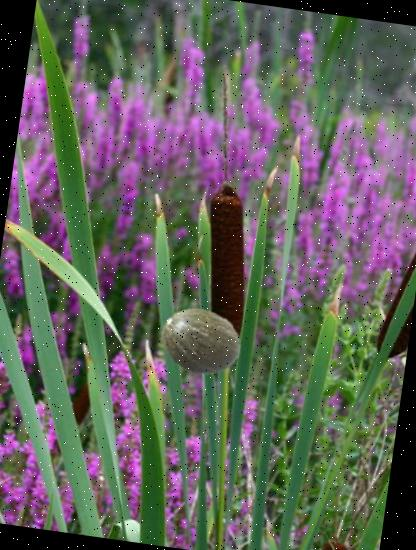Melon: (156, 296, 246, 386)
